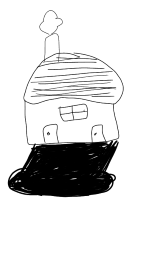closed_window: (56, 100, 92, 123)
door: (38, 120, 63, 147), (89, 121, 109, 147)
roof: (14, 46, 141, 105)
shadow: (5, 138, 128, 201)
smoking_chimney: (30, 7, 76, 66)
wall: (21, 93, 124, 148)
